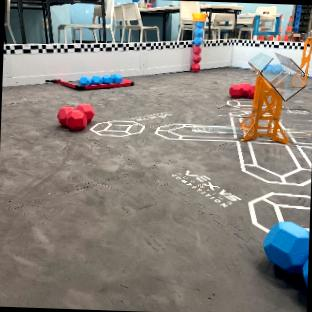Goal: (241, 53, 303, 143), (302, 36, 312, 74)
Parking-R: (47, 80, 133, 90)
V5_BLUE: (264, 222, 309, 284), (79, 74, 123, 85), (193, 23, 203, 44), (264, 65, 283, 74)
V5_RED: (58, 104, 94, 130), (230, 83, 254, 98), (192, 44, 201, 71)
